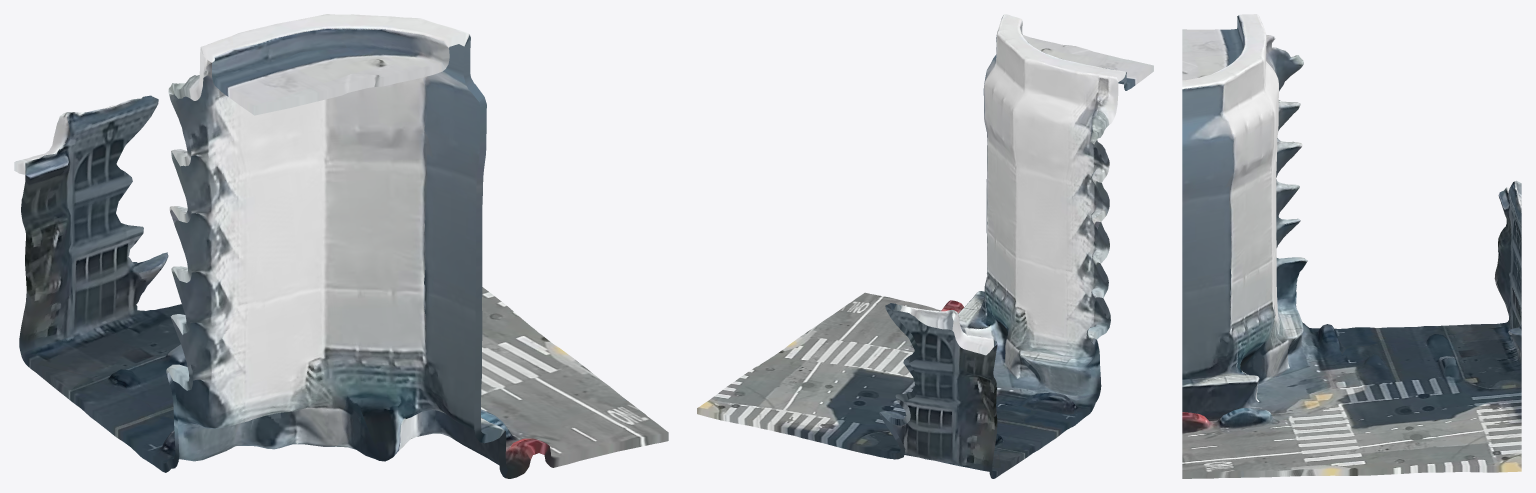
The model's file is z20-167756-405242-h0-yup-uvflip-v3-world.glb.
The picture shows the model from 3 angles, left to right: view 1: azimuth 30°, elevation 25°; view 2: azimuth 150°, elevation 25°; view 3: azimuth 270°, elevation 25°; orthographic projection. The views are drawn at different scales.
Bounding box in the file's own units: 30.16 × 31.8 × 30.32.
Materials: 1 (1 with a texture image).
